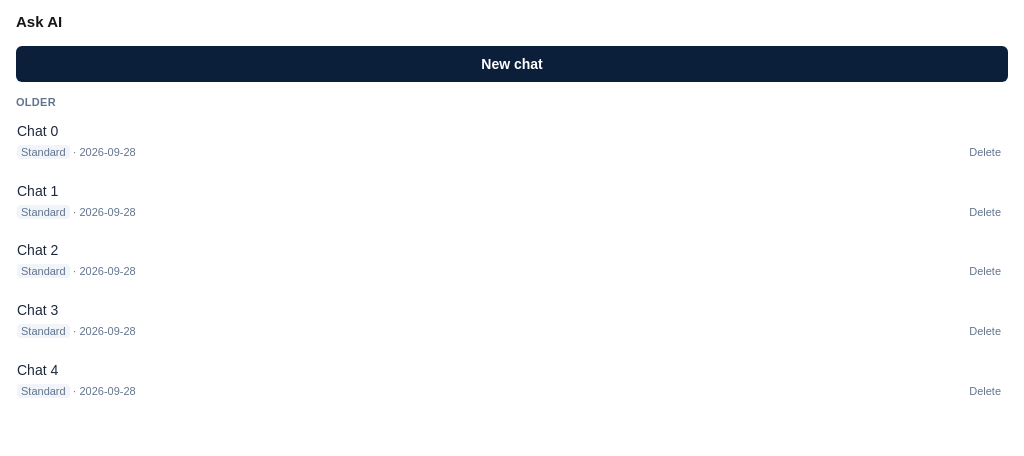
Test: Rail › shows an error line when the delete fails
Click the button with aria-label "Delete Chat 0": click(985, 153) [963,143,1007,163]
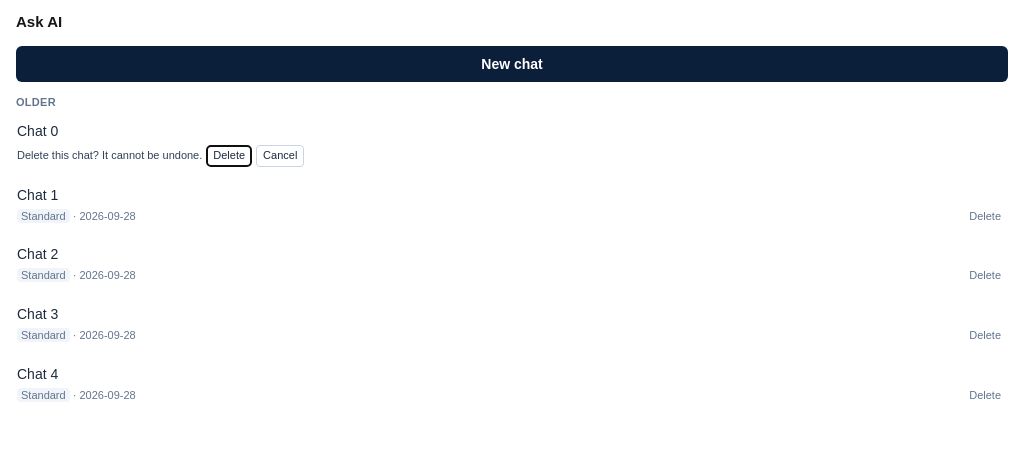
Click the button with aria-label "Confirm delete Chat 0": click(229, 156) [206,145,252,167]
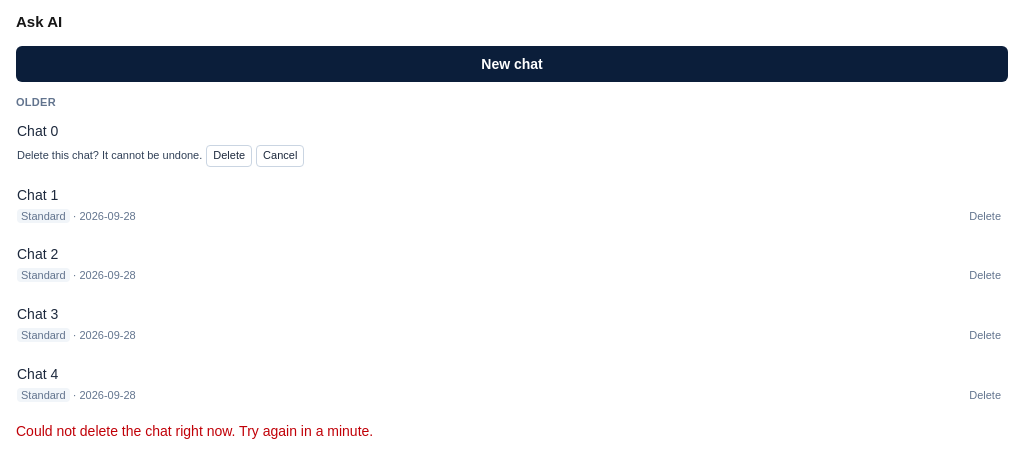
Result: the message reads "Could not delete the chat right now. Try again in a minute." at [16,422,373,438]
